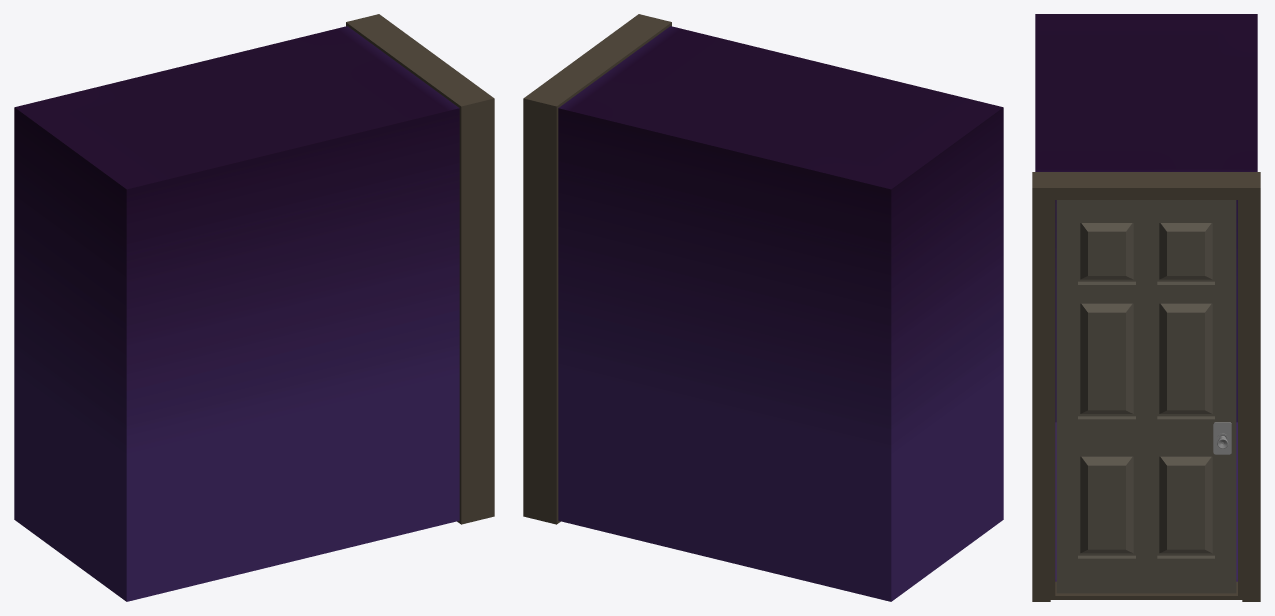
The model's file is door.glb.
3 views of the same model, side by side, from view 1: azimuth 30°, elevation 25°; view 2: azimuth 150°, elevation 25°; view 3: azimuth 270°, elevation 25° (orthographic).
Visible parts, largest first — view 1: room, frame; view 2: room, frame; view 3: door, room, frame, handle.
Part boxes in pixels (x1,y1,x2,y2): room: [14, 26, 459, 601]; frame: [346, 14, 494, 524]; room: [558, 26, 1003, 601]; frame: [523, 14, 671, 524]; door: [1056, 200, 1236, 593]; room: [1035, 14, 1257, 581]; frame: [1032, 172, 1260, 601]; handle: [1213, 422, 1231, 454].
Bounding box in the file's own units: 27.93 × 30 × 15.
Materials: 4 (1 with a texture image).
